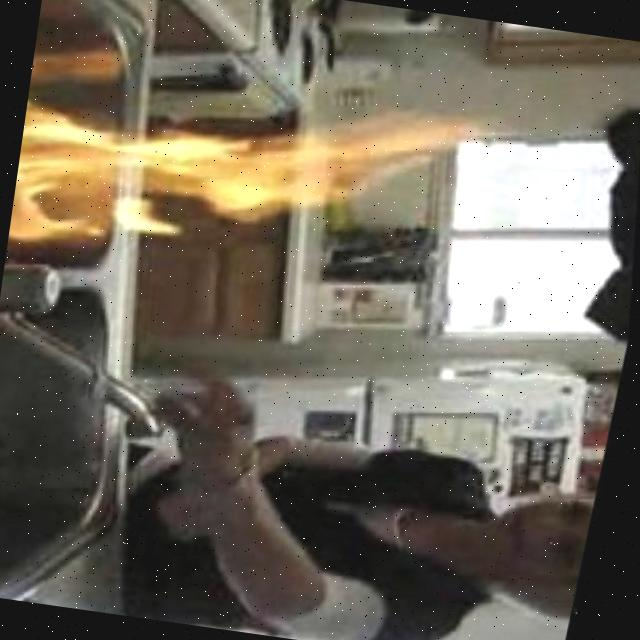fire: (7, 32, 505, 308)
